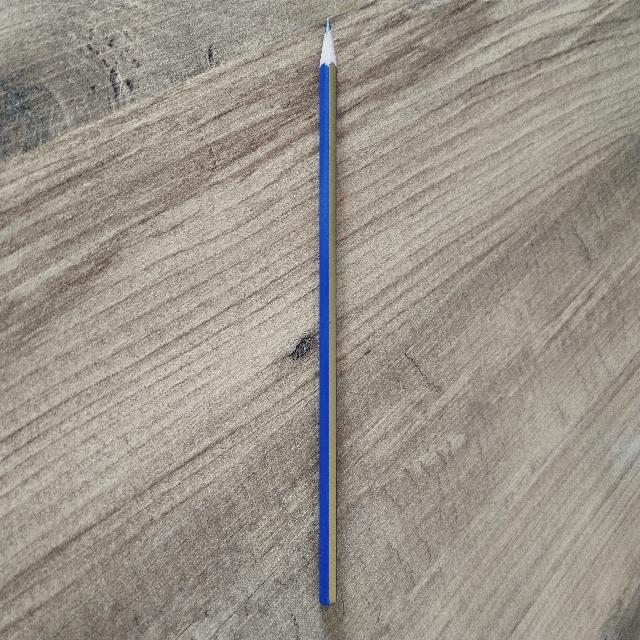pencil: (319, 19, 336, 604)
